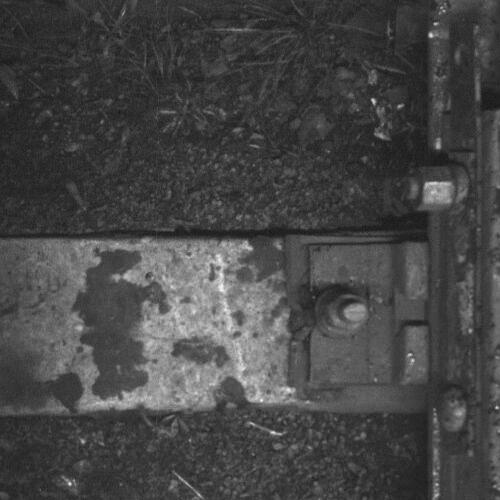kb_no_bracket: (393, 236, 436, 389)
nut: (323, 286, 375, 336)
tie_concr: (1, 234, 422, 414)
